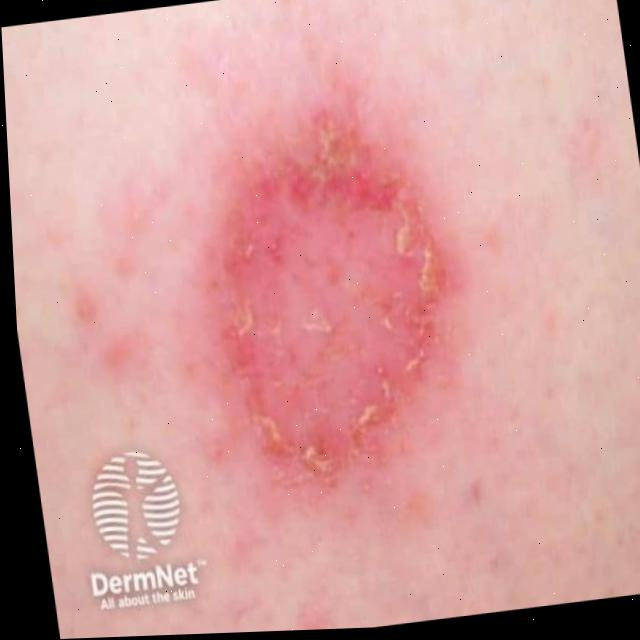Eczema: (193, 105, 469, 481)
